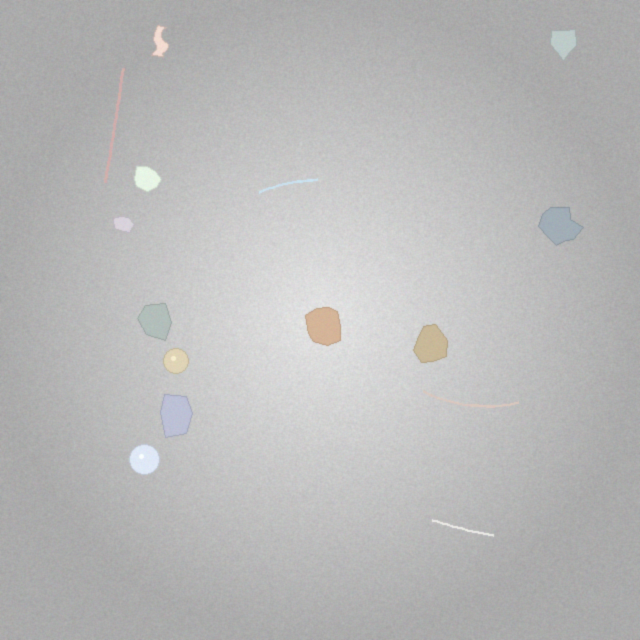fiber: (102, 65, 127, 186), (420, 388, 523, 410), (429, 517, 497, 539), (256, 176, 321, 196)
film: (152, 26, 168, 57)
fragment: (538, 207, 583, 245), (161, 394, 193, 438), (306, 308, 341, 346), (413, 325, 448, 362), (138, 303, 172, 341), (550, 29, 577, 60), (134, 167, 162, 191), (113, 217, 135, 233)
pellet: (129, 445, 159, 474), (163, 348, 188, 373)
